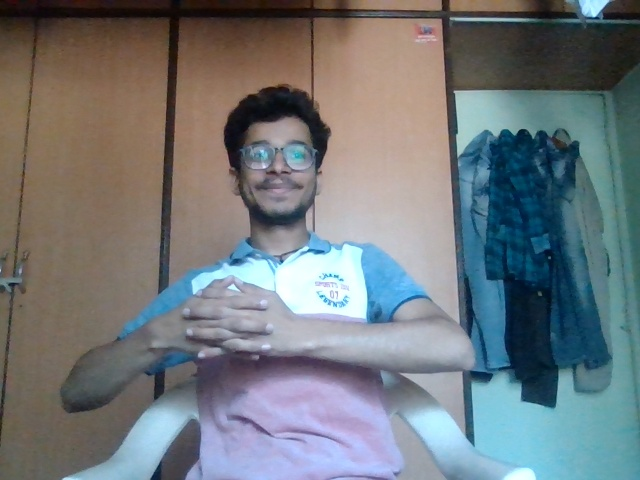good: (175, 268, 298, 370)
